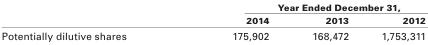table: (0, 1, 424, 41)
table column: (0, 1, 178, 41), (178, 1, 289, 41), (289, 1, 364, 41), (364, 1, 424, 41)
table column header: (0, 1, 424, 26)
table row: (0, 26, 424, 41), (0, 13, 424, 26), (0, 1, 424, 13)
table spanning cell: (178, 1, 424, 13)
